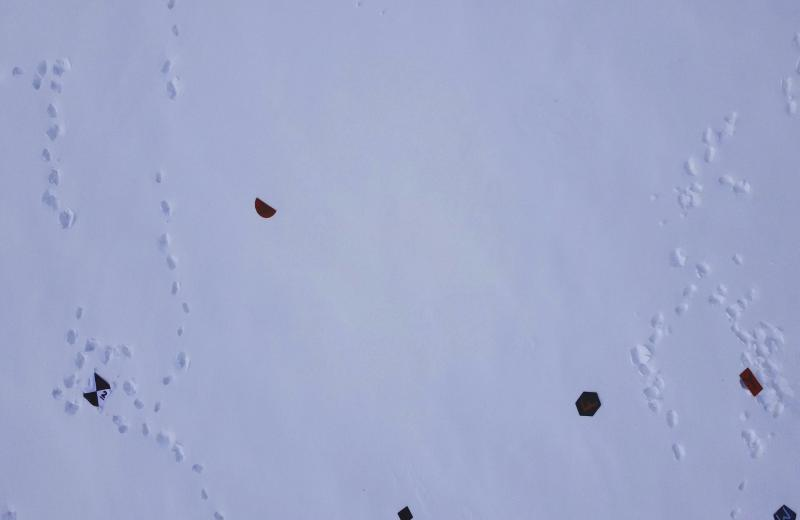Hexagon: (572, 388, 602, 422)
Pentagon: (772, 501, 796, 520)
Rectangle: (735, 365, 765, 403)
Semi Circle: (250, 196, 279, 222)
Square: (394, 502, 415, 520)
